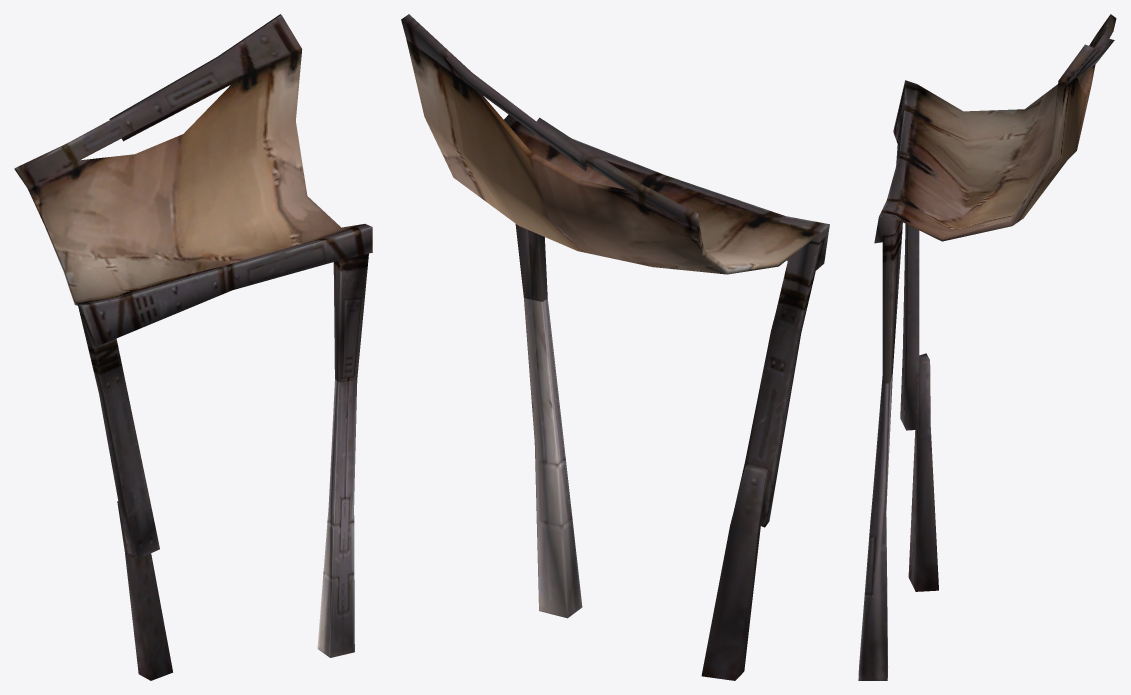
The model's file is all_tent_merchant_small_awning01.glb.
3 renders of one model, left to right at view 1: azimuth 30°, elevation 25°; view 2: azimuth 150°, elevation 25°; view 3: azimuth 270°, elevation 25°, orthographic. The views are drawn at different scales.
Visible parts, largest first — view 1: all_tent_merchant_small_awning01; view 2: all_tent_merchant_small_awning01; view 3: all_tent_merchant_small_awning01.
Part boxes in pixels (x1,y1,x2,y2): all_tent_merchant_small_awning01: (14,14,372,680); all_tent_merchant_small_awning01: (401,14,829,680); all_tent_merchant_small_awning01: (858,14,1116,680).
Size of the model in its own units: 0.3051 by 0.5645 by 0.203.
1 material, 1 textured.
